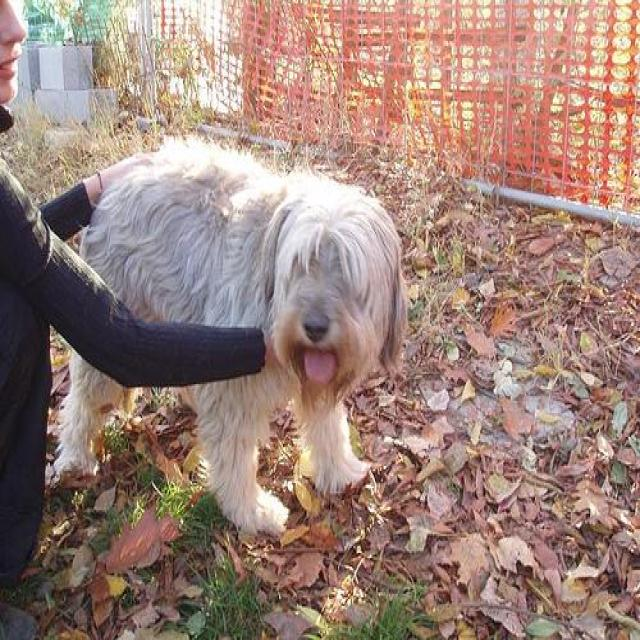happy: (46, 120, 405, 542)
